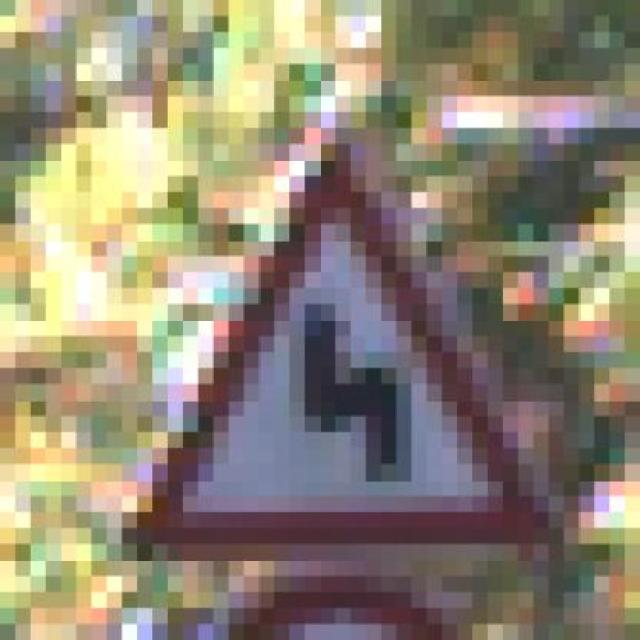Left Zig Zag Traffic: (107, 112, 548, 576)
